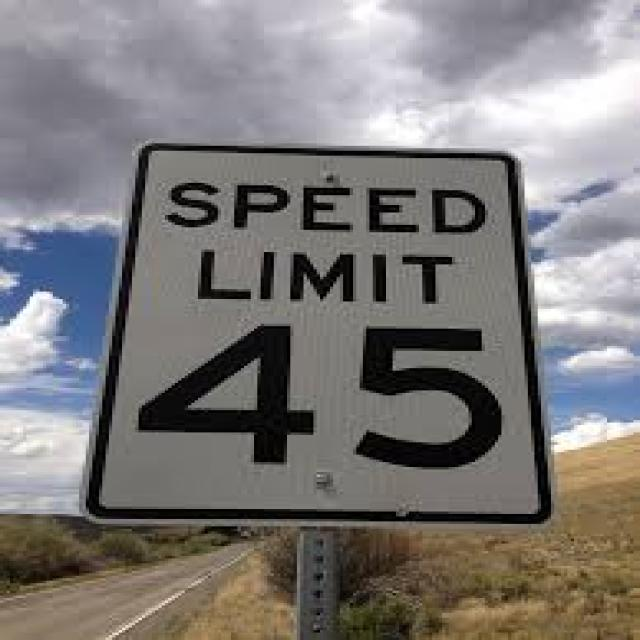speedLimit45: (86, 137, 551, 508)
